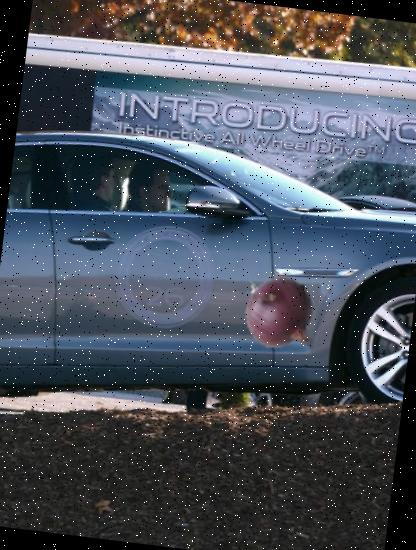Onion: (221, 254, 329, 362)
